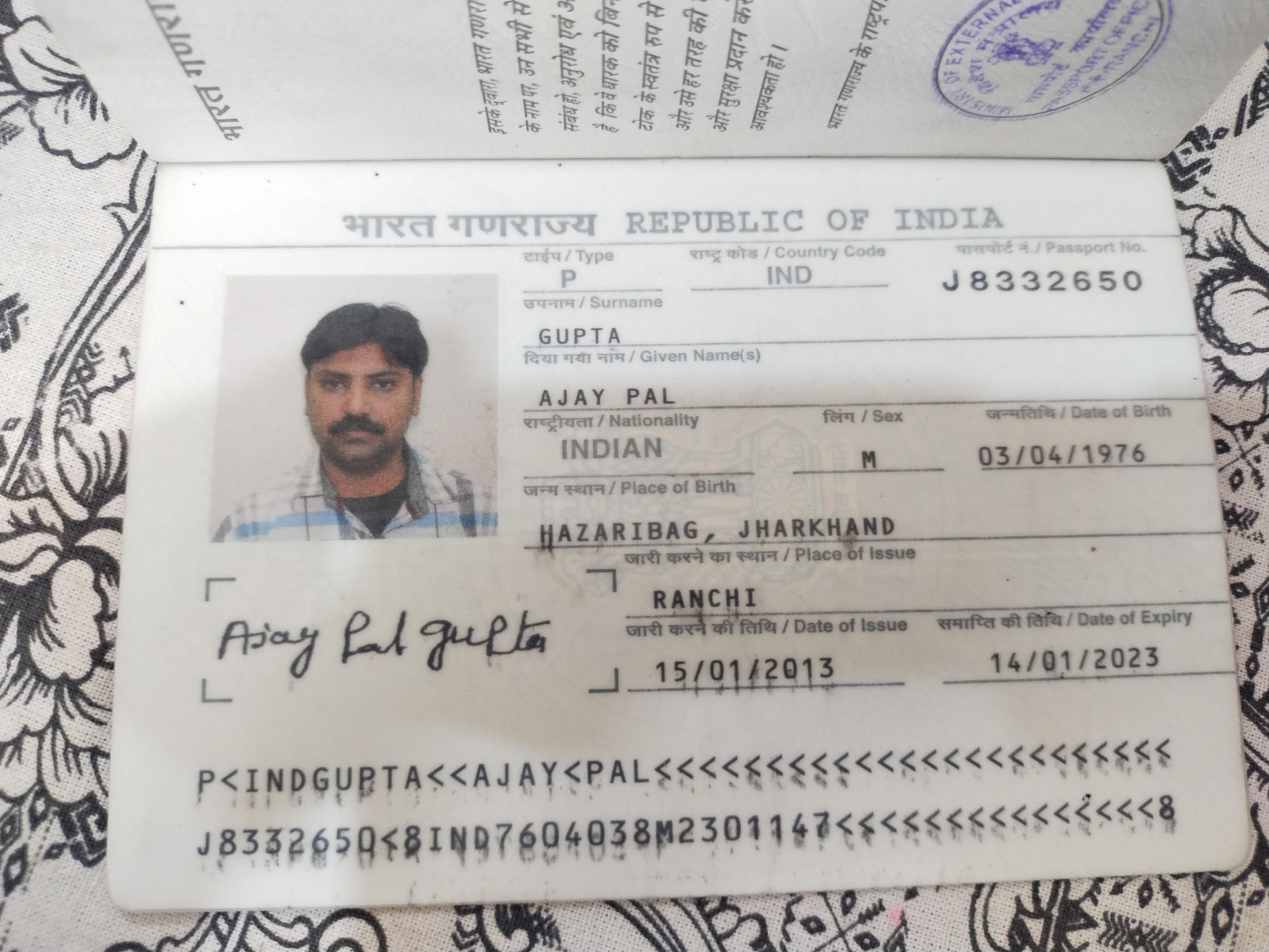DOB: (968, 427, 1164, 483)
Surname: (531, 321, 639, 349)
country_code: (757, 260, 831, 291)
date_of_expiry: (982, 639, 1165, 691)
date_of_issue: (636, 646, 848, 692)
details: (152, 741, 1196, 863)
name: (520, 381, 692, 406)
nationality: (549, 430, 684, 468)
passport_no: (939, 262, 1163, 305)
photo: (227, 276, 498, 536)
place_of_birth: (527, 503, 911, 539)
place_of_issue: (619, 574, 773, 621)
sex: (850, 436, 896, 486)
sign: (203, 611, 580, 686)
type: (544, 262, 590, 295)
